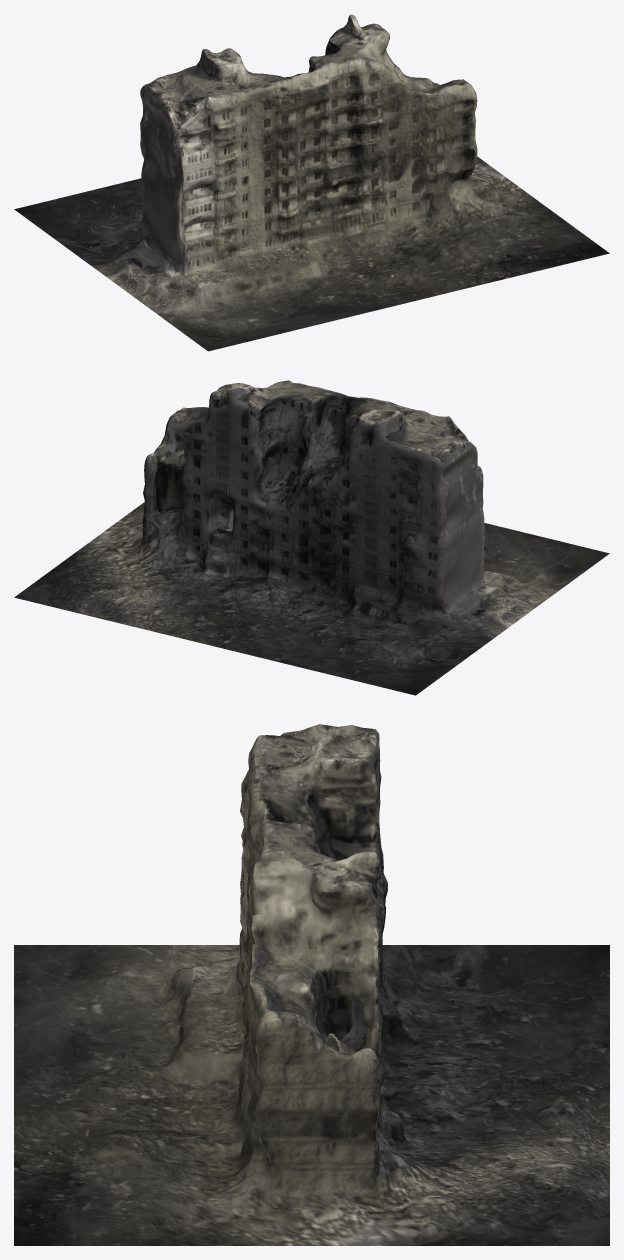
The model's file is house_2.gltf.
The picture shows the model from 3 angles, top to bottom: view 1: azimuth 30°, elevation 25°; view 2: azimuth 150°, elevation 25°; view 3: azimuth 270°, elevation 25°; orthographic projection. The views are drawn at different scales.
Visible parts, largest first — view 1: Remesh Color - 2; view 2: Remesh Color - 2; view 3: Remesh Color - 2.
Part boxes in pixels (x1,y1,x2,y2): Remesh Color - 2: [14, 14, 609, 351]; Remesh Color - 2: [14, 380, 609, 695]; Remesh Color - 2: [14, 724, 609, 1245].
Size of the model in its own units: 0.8797 by 0.4217 by 0.7365.
Materials: 1 (1 with a texture image).
